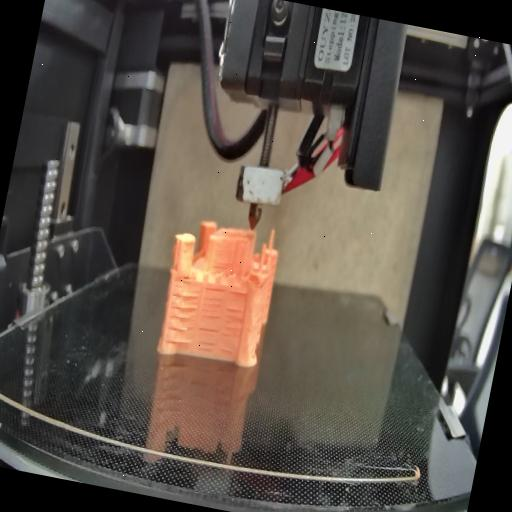cracks: (164, 288, 200, 346), (218, 304, 247, 354), (199, 284, 226, 324), (195, 324, 220, 353), (226, 287, 248, 298), (180, 270, 194, 284)
